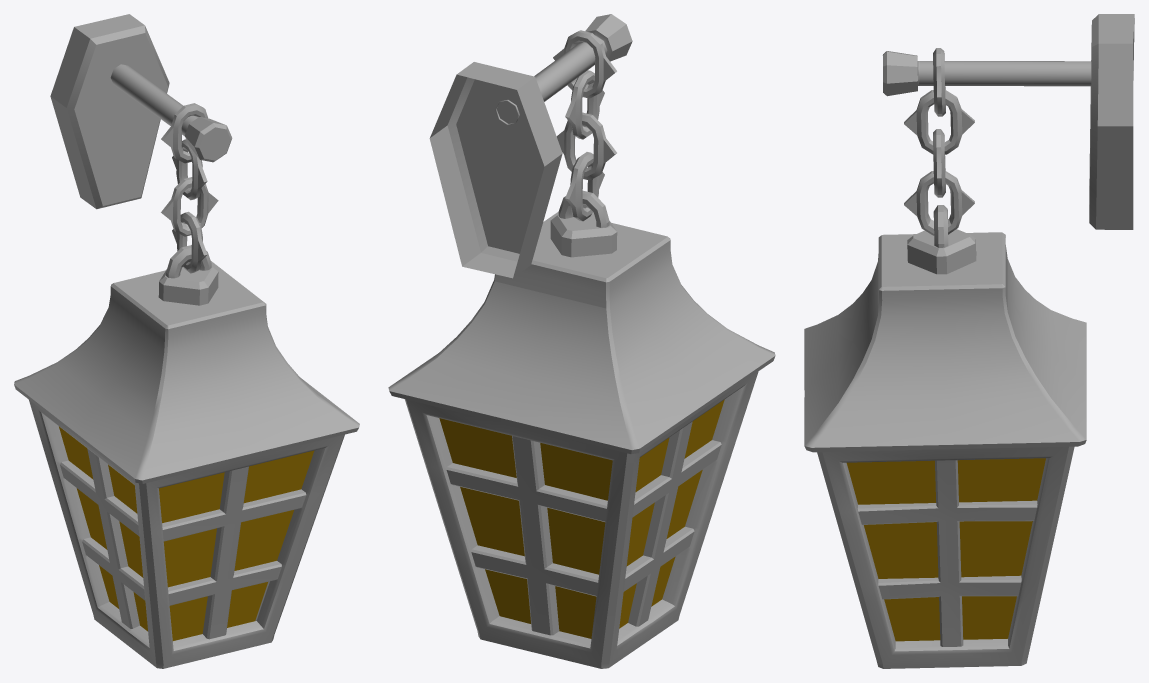
File: WallLantern.fbx
3 views of the same model, side by side, from view 1: azimuth 30°, elevation 25°; view 2: azimuth 150°, elevation 25°; view 3: azimuth 270°, elevation 25° (orthographic). The views are drawn at different scales.
Visible parts, largest first — view 1: Lantern; view 2: Lantern; view 3: Lantern.
Boxes of the visible parts, x1,y1,x2,y2 form: Lantern: [14, 14, 359, 668]; Lantern: [388, 14, 775, 668]; Lantern: [804, 14, 1134, 668].
Bounding box in the file's own units: 0.1345 × 0.3144 × 0.1546.
